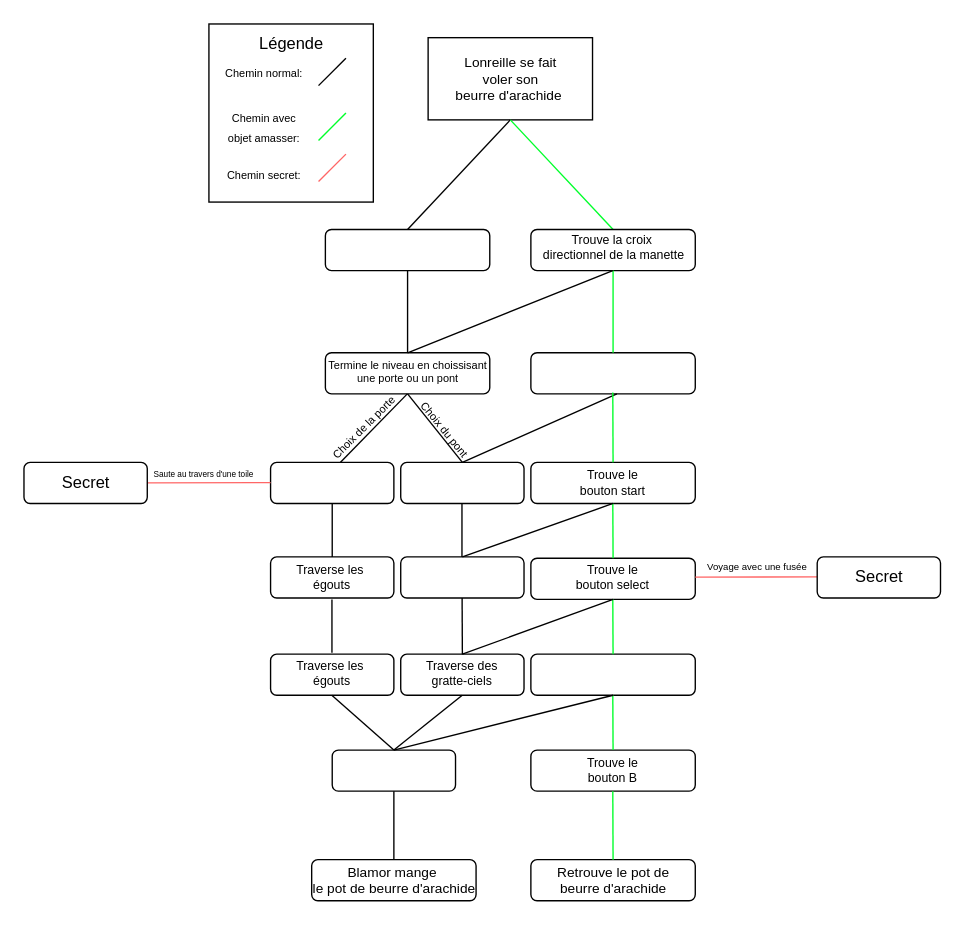
Image size: 964x932. Some labels were removed from this diagram. The box of each missing label's shape, as (x1, y1, x2, y2) in pixels:
Monte une grue: (399, 556, 524, 598)
Traverse l'autoroute: (399, 461, 524, 503)
Traverse la forêt: (324, 228, 490, 271)
Traverse le musée: (269, 461, 394, 503)
Trouve le boitier de la manette: (530, 351, 695, 394)
Trouve le bouton A: (530, 653, 695, 695)
Voyage sur un train: (331, 749, 456, 791)
